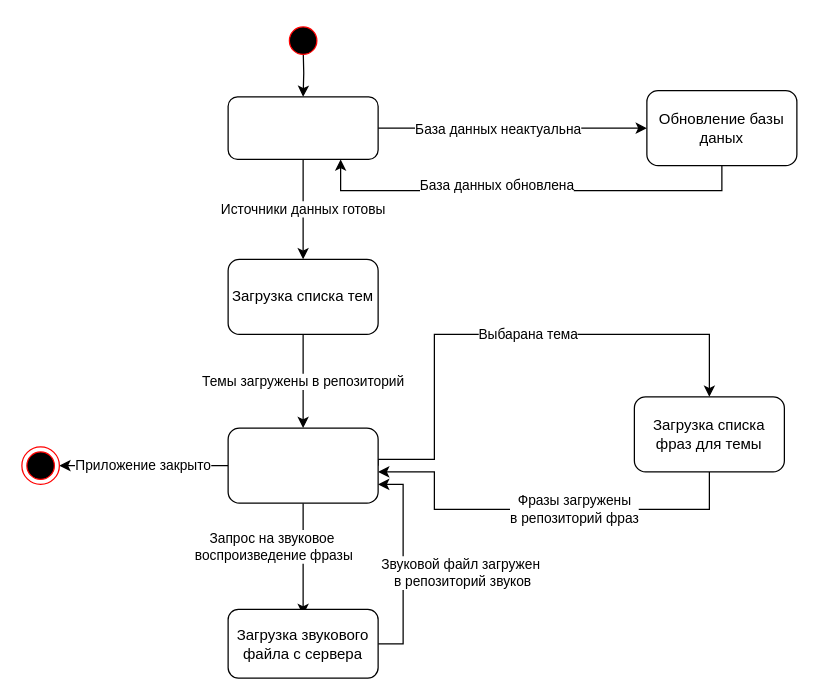
Some shapes in this 819 by 700 pixel diagram are drawn without their labels. Each missing label, with the centre of its shape:
"Инициализация источников данных" goes at (x=302, y=127).
"Ожидание" goes at (x=302, y=465).
